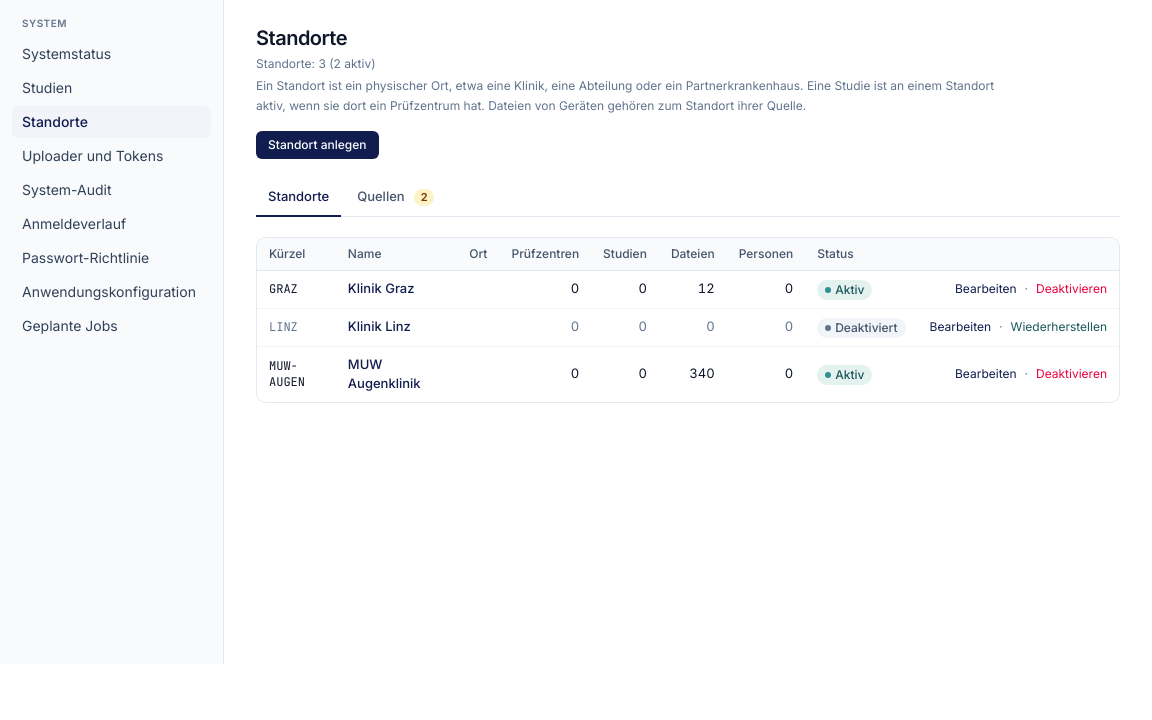
Test: System → Standorte → Quellen › in German, the working language › speaks German on both tabs, with no key left untranslated
Click the tab "Quellen 2" at [396, 198], box x1=345 y1=179 x2=446 y2=216
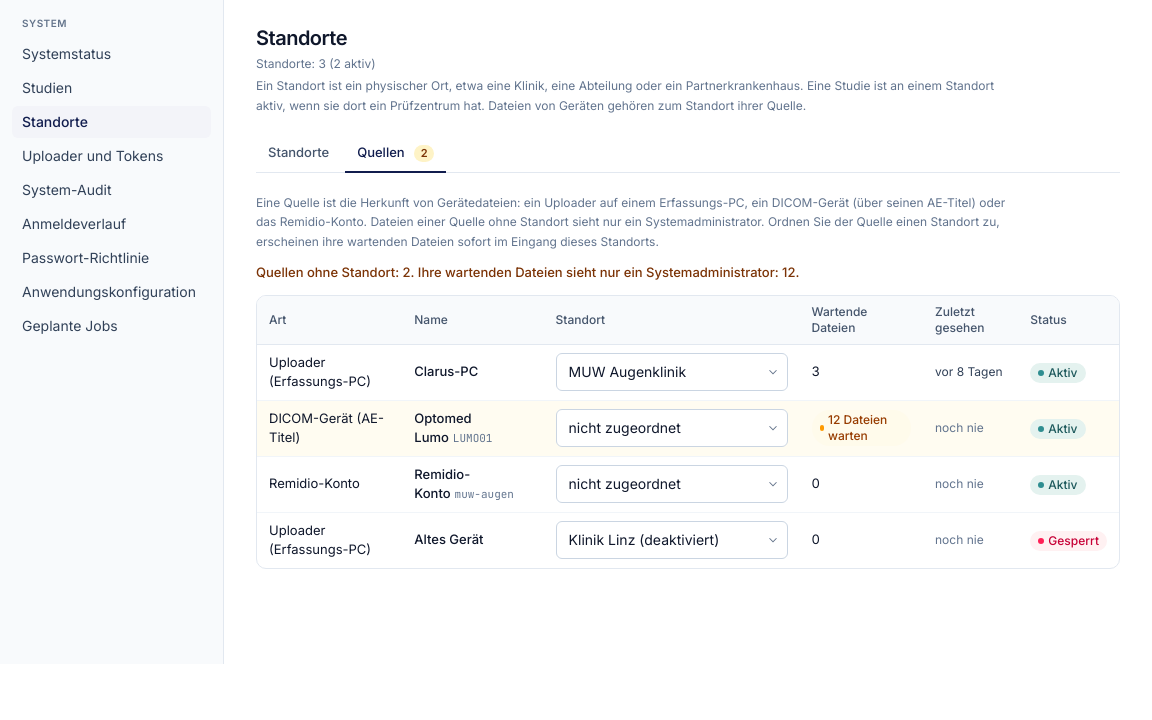
Expected: the text "Wartende Dateien" is shown, x1=800 y1=296 x2=923 y2=344
Expected: the text "Zuletzt gesehen" is shown, x1=923 y1=296 x2=1018 y2=344
Expected: the cell "Uploader (Erfassungs-PC)" next to "Clarus-PC" is shown, x1=269 y1=354 x2=371 y2=389
